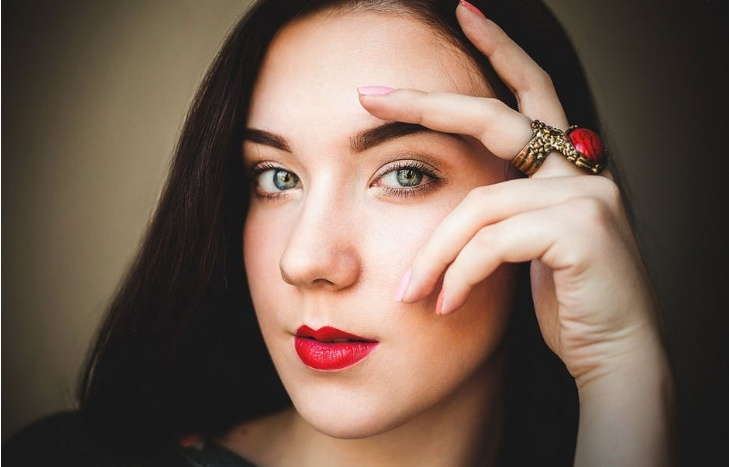face: (238, 8, 512, 438)
